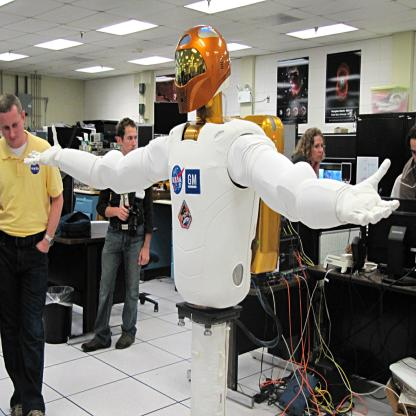Helmet: (171, 23, 232, 123)
